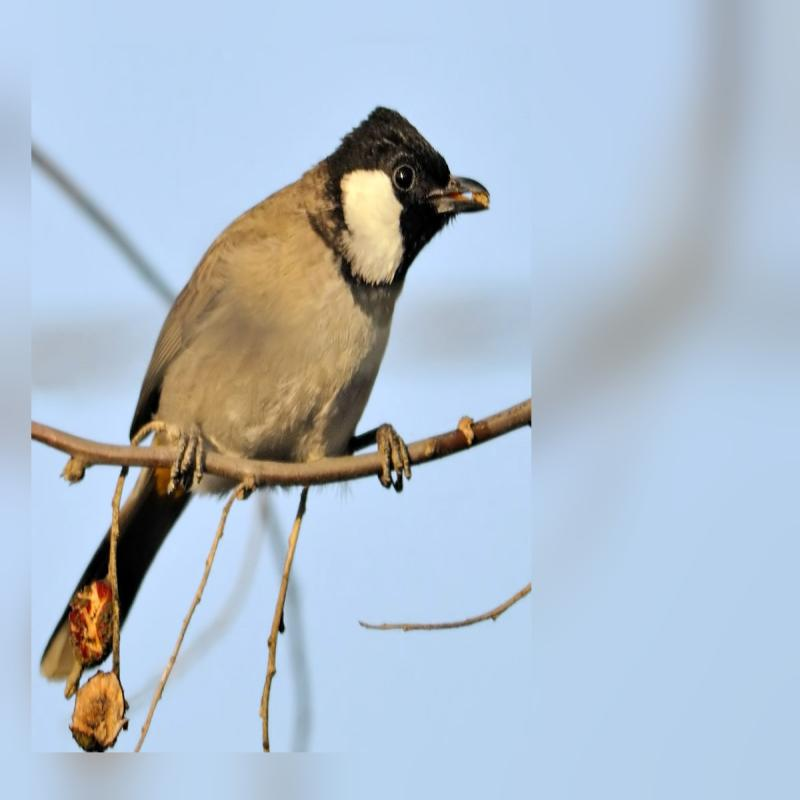white-eared bulbul: (36, 99, 500, 730)
